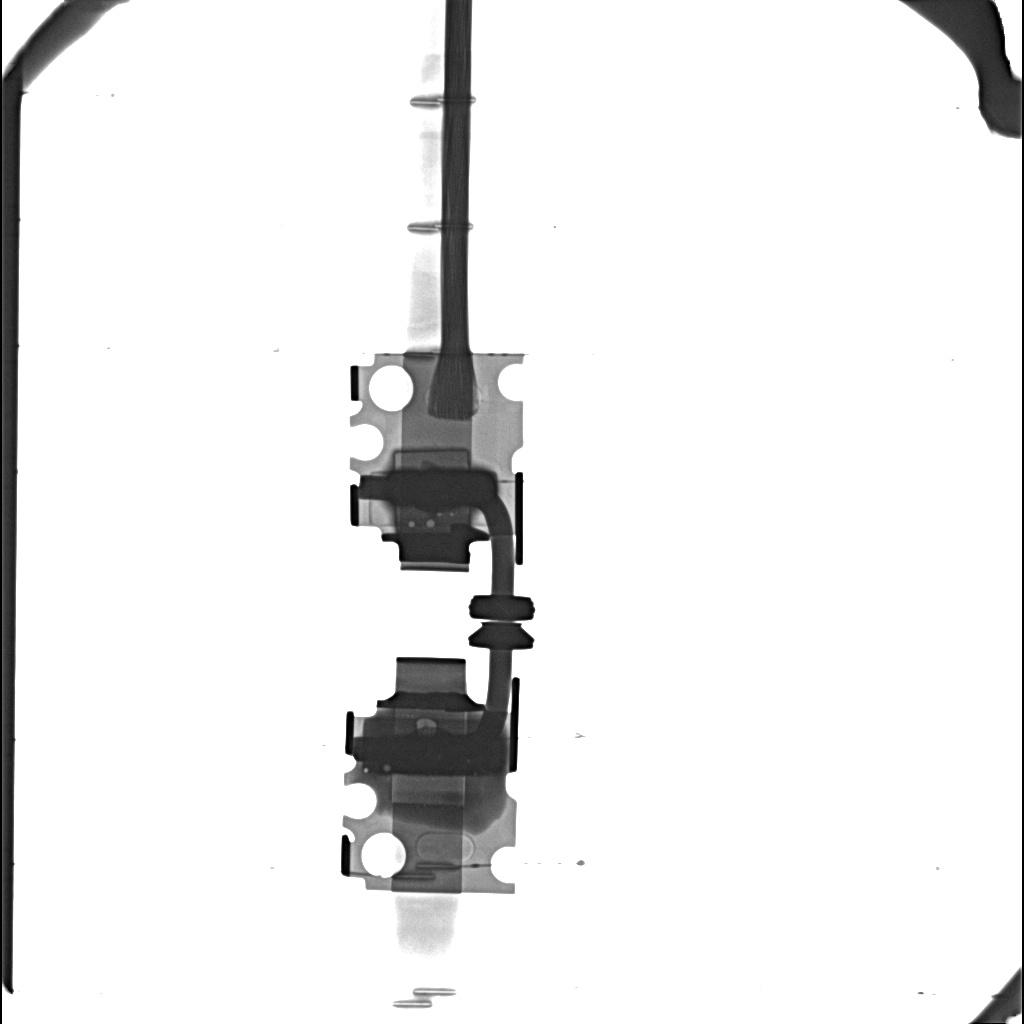defect: (368, 730, 506, 776), (387, 469, 496, 510), (390, 776, 468, 808), (392, 448, 470, 469), (416, 718, 438, 730), (425, 519, 435, 528), (409, 521, 416, 527)
